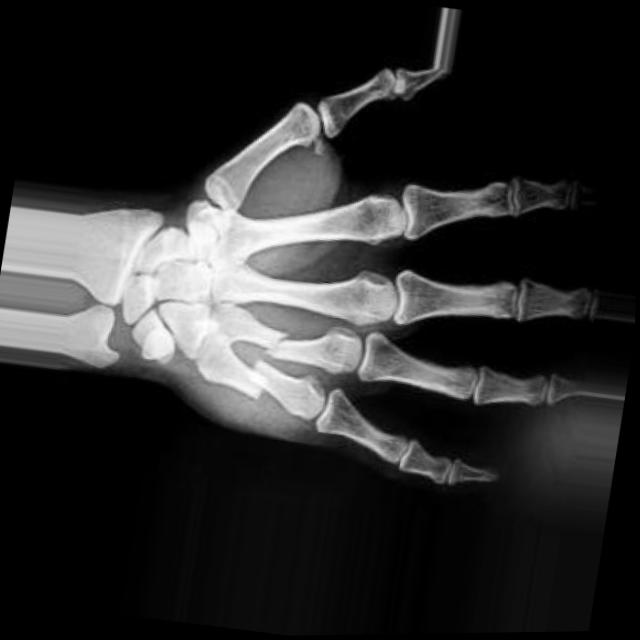fracture: (243, 353, 274, 412), (268, 325, 296, 359)
